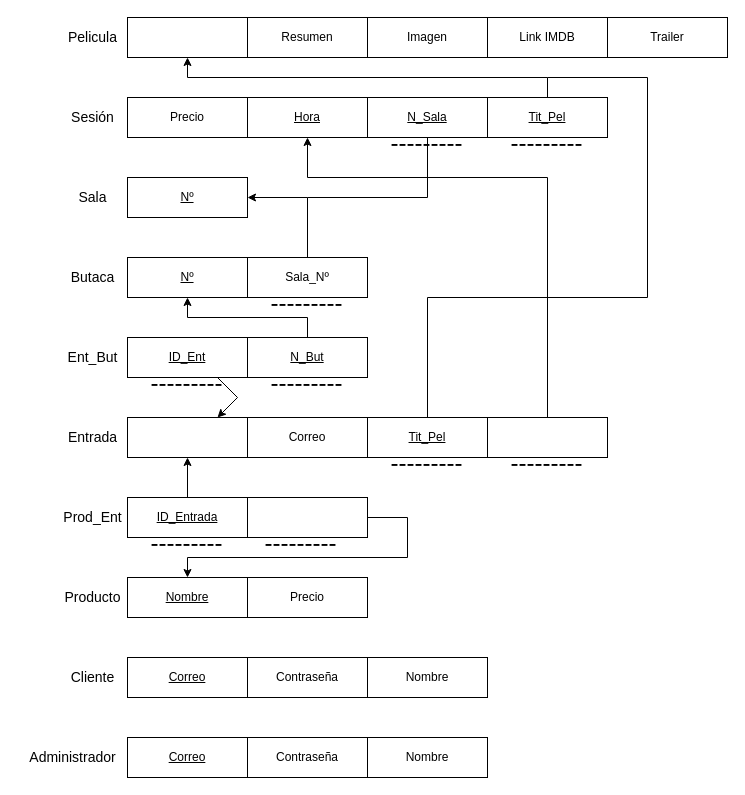
Image size: 745x795. Some labels were removed from this diagram. Each missing label, with the box of its shape:
ID: (126, 416, 248, 458)
Nombre_Prod: (246, 496, 368, 538)
Sesion_Hora: (486, 416, 608, 458)
Título: (126, 16, 248, 58)
